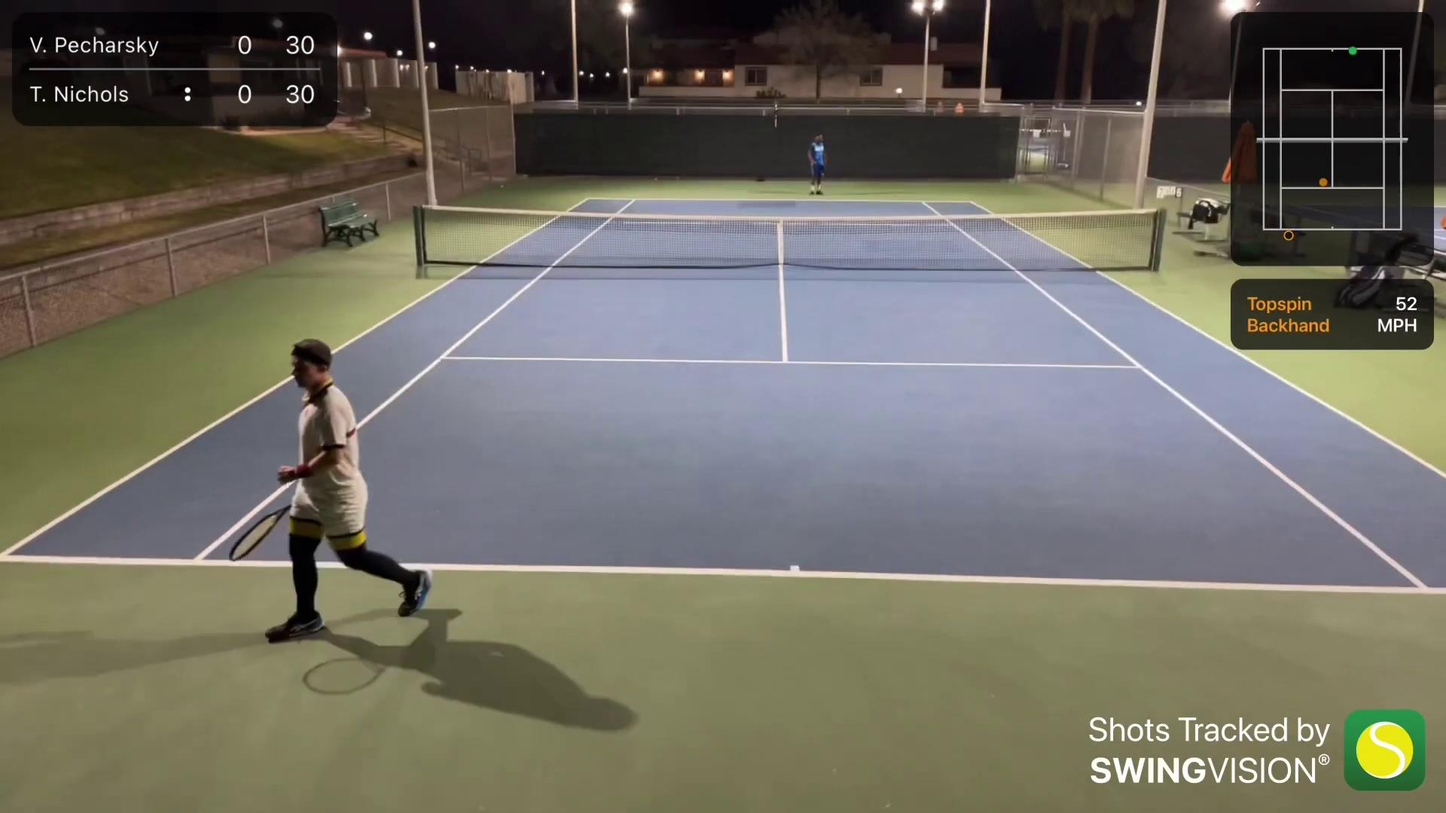ball: (653, 176, 658, 181), (500, 184, 505, 189), (987, 2, 988, 3)
